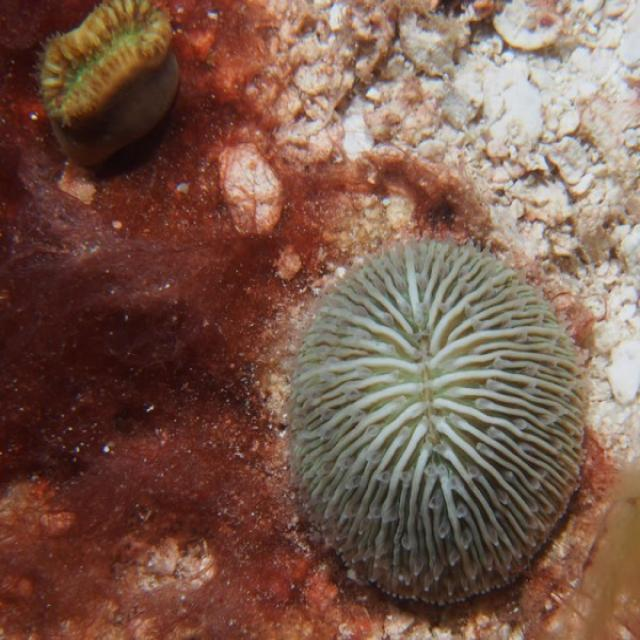Healthy Coral: (284, 237, 596, 604), (27, 0, 204, 171)
